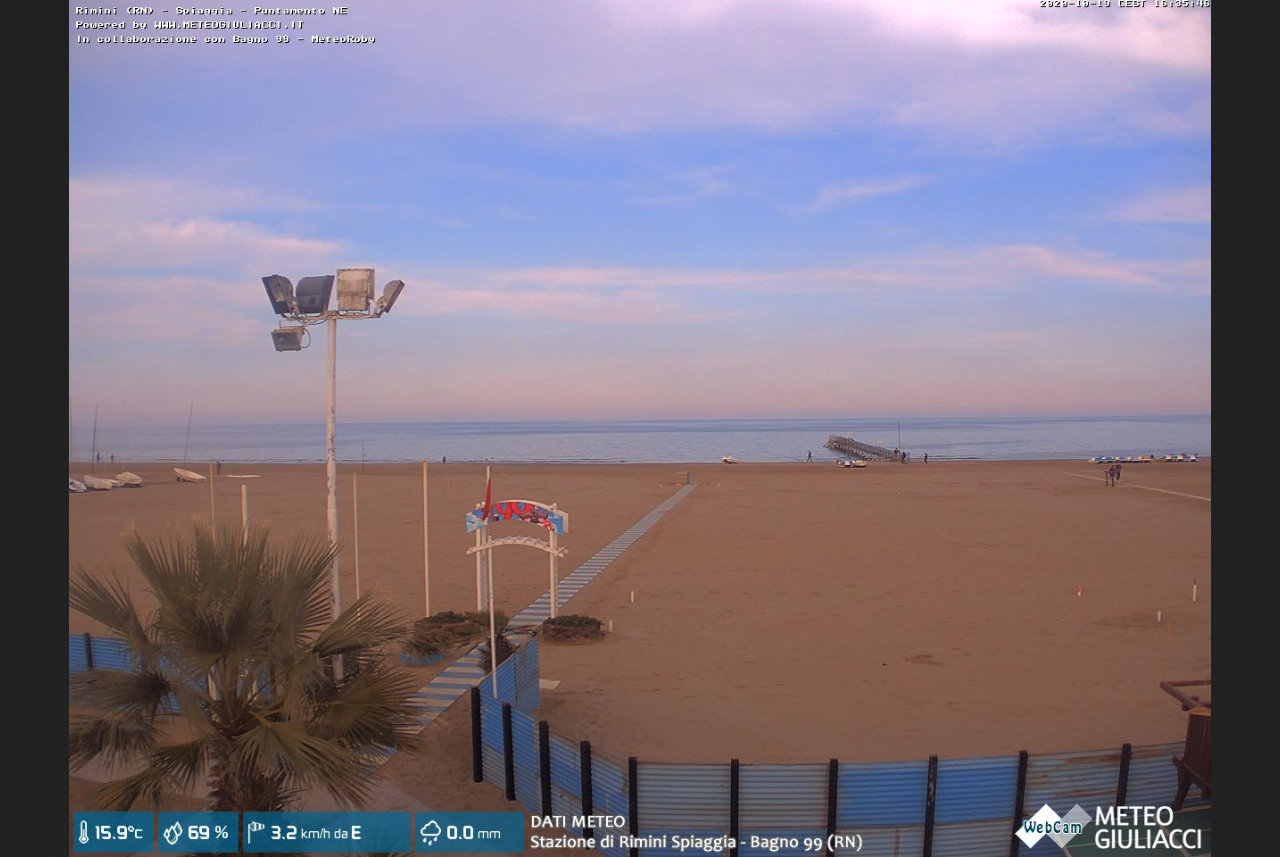no: (477, 469, 498, 526)
